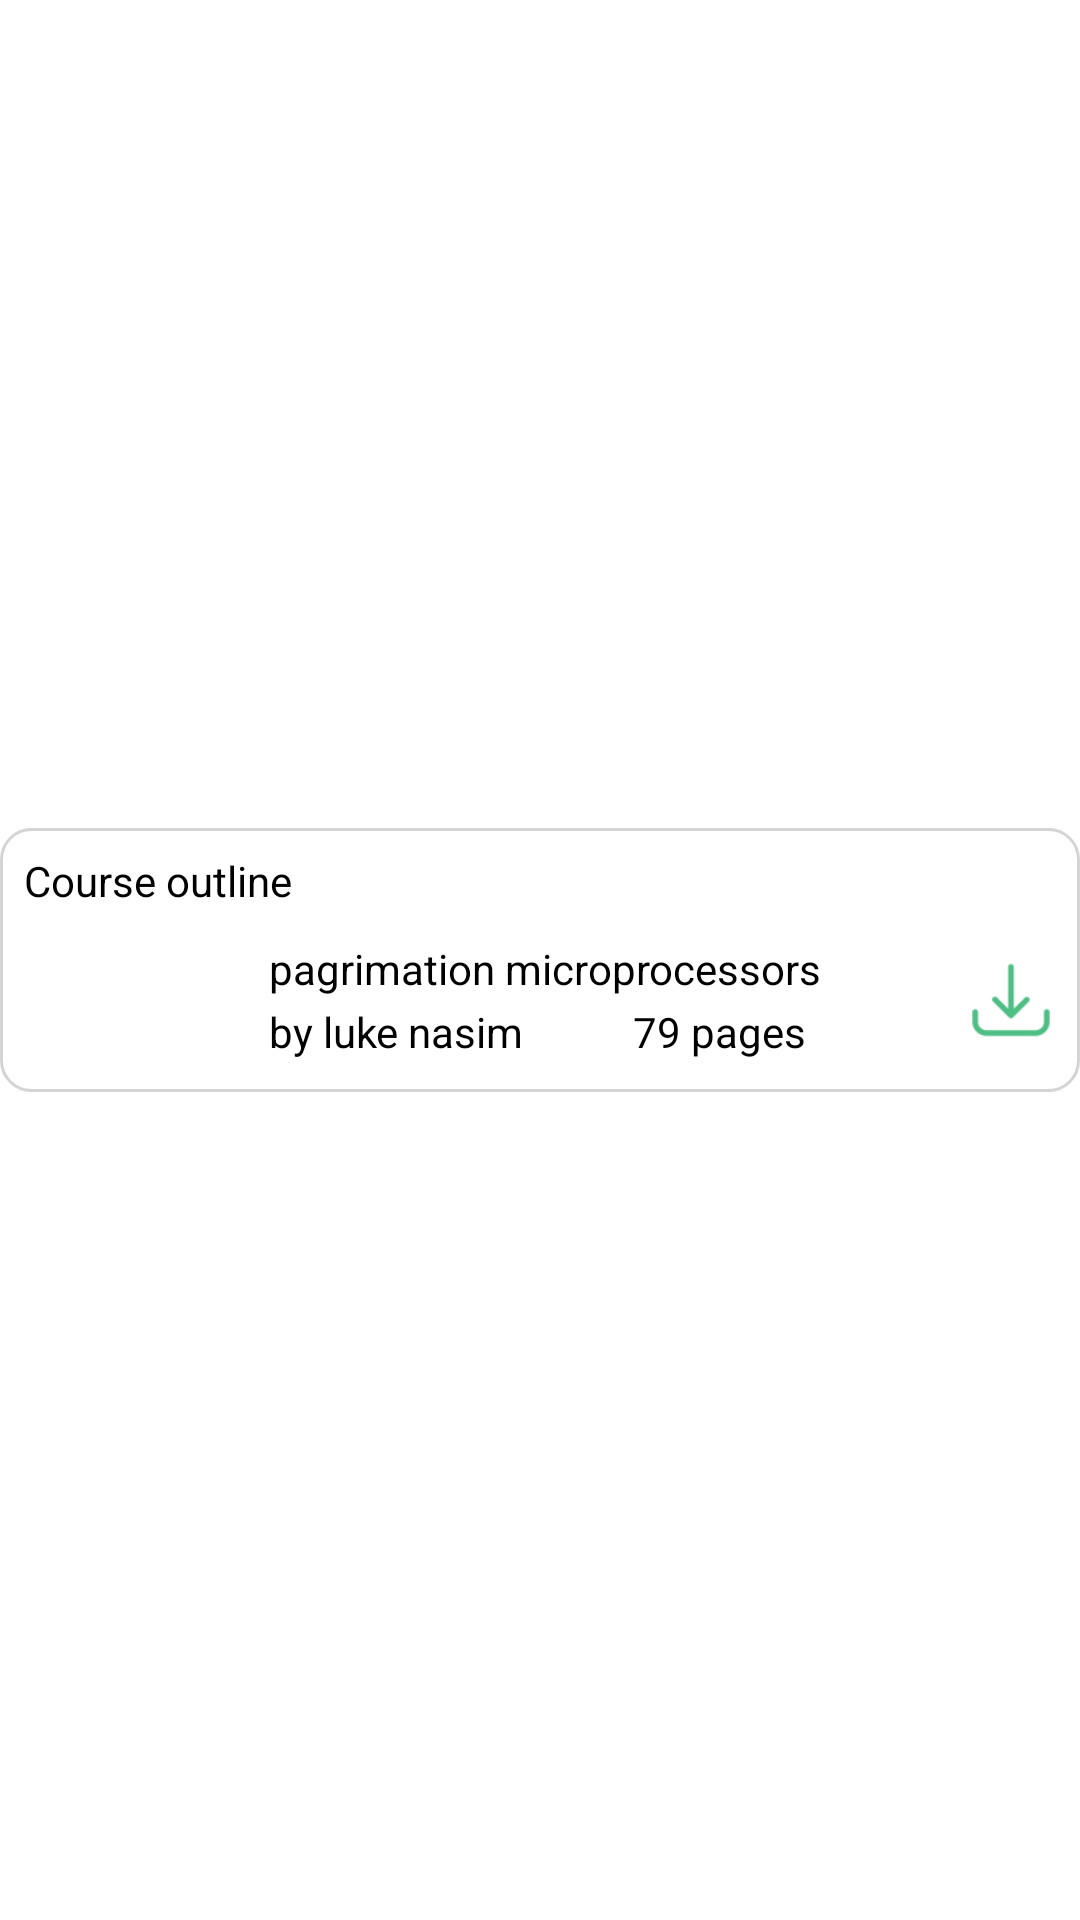

Where icons sit on this 1080 × 1920 app screen, as (x1, y1, x2, y2):
download: (972, 963, 1050, 1037)
